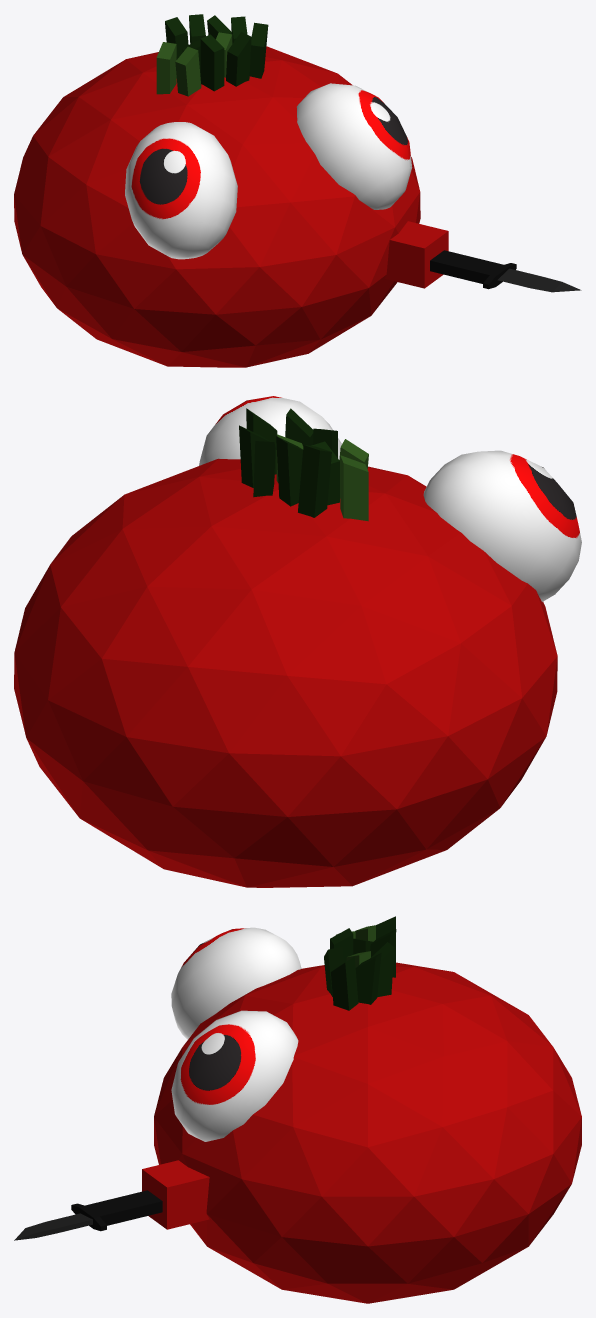
Rendered from KillerTomato.FBX.
3 views of the same model, one above another, from view 1: azimuth 30°, elevation 25°; view 2: azimuth 150°, elevation 25°; view 3: azimuth 270°, elevation 25° (orthographic). The views are drawn at different scales.
Visible parts, largest first — view 1: Body, Eyes, Hand, Knife, Box005, Box006, Box007, Box011, Box010, Box001; view 2: Body, Eyes, Box001, Box011, Box002, Box009, Box008, Box006, Box010, Box003; view 3: Body, Eyes, Hand, Knife, Box010, Box008, Box009, Box006.
Part boxes in pixels (x1,y1,x2,y2): Body: (14, 46, 420, 367); Eyes: (125, 83, 412, 259); Hand: (385, 221, 448, 288); Knife: (430, 250, 581, 292); Box005: (200, 34, 224, 91); Box006: (226, 31, 251, 86); Box007: (175, 46, 201, 96); Box011: (156, 42, 176, 94); Box010: (249, 22, 268, 78); Box001: (165, 17, 188, 59); Body: (14, 458, 557, 887); Eyes: (199, 396, 581, 601); Box001: (298, 445, 331, 517); Box011: (340, 455, 368, 521); Box002: (276, 436, 302, 506); Box009: (253, 441, 275, 497); Box008: (239, 425, 270, 487); Box006: (285, 408, 313, 445); Box010: (246, 408, 277, 474); Box003: (311, 441, 339, 505); Body: (154, 962, 581, 1303); Eyes: (171, 927, 301, 1141); Hand: (142, 1160, 209, 1229); Knife: (14, 1190, 162, 1240); Box010: (331, 956, 358, 1010); Box008: (355, 953, 381, 1004); Box009: (370, 942, 394, 996); Box006: (324, 947, 343, 996).
Size of the model in its own units: 119 by 99.03 by 149.
6 materials, 1 textured.
